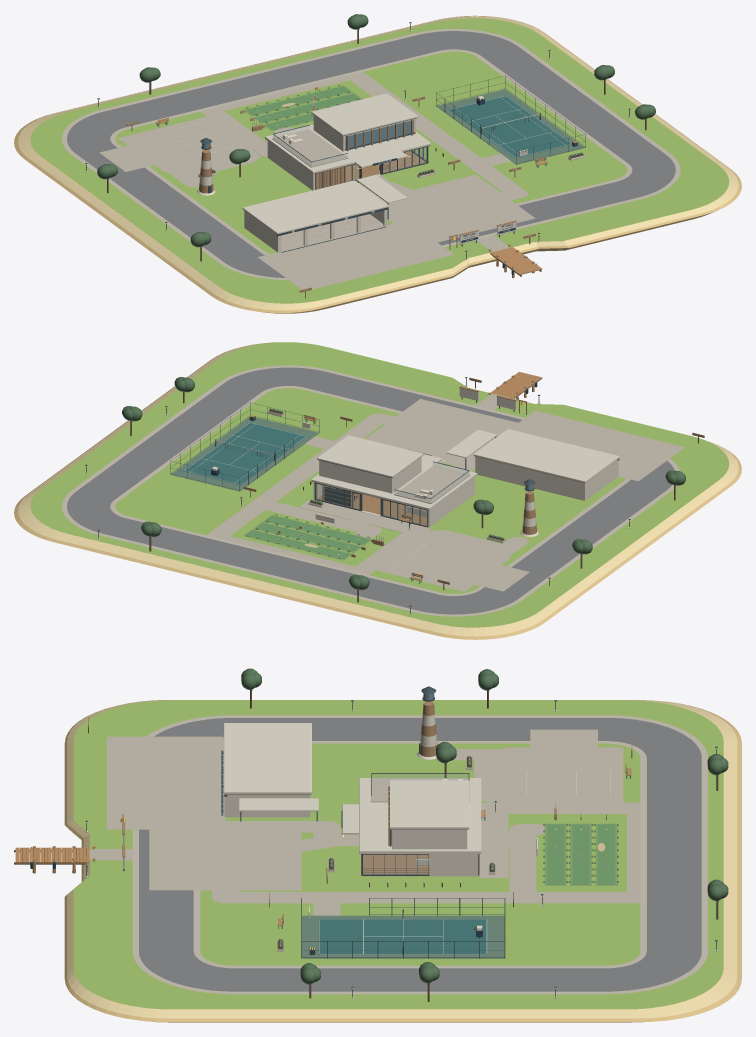
Rendered from about.glb.
3 views of the same model, one above another, from view 1: azimuth 30°, elevation 25°; view 2: azimuth 150°, elevation 25°; view 3: azimuth 270°, elevation 25° (orthographic). The views are drawn at different scales.
Visible parts, largest first — view 1: static_grass, district_harbor_estate_paving, district_harbor_estate_asphalt, static_sand, district_harbor_estate_roadShoulder, occluder_estate_garage_roof_estate_stone, static_sandEdge, district_harbor_estate_court, occluder_estate_house_upper_estate_stone, occluder_estate_house_roof_estate_stone, district_harbor_estate_wood, district_harbor_estate_courtOuter (+13 smaller); view 2: static_grass, district_harbor_estate_asphalt, district_harbor_estate_paving, static_sand, district_harbor_estate_roadShoulder, occluder_estate_house_upper_estate_stone, occluder_estate_garage_roof_estate_stone, district_harbor_estate_court, static_sandEdge, occluder_estate_garage_walls_estate_stone, district_harbor_estate_green, district_harbor_estate_courtOuter (+12 smaller); view 3: static_grass, district_harbor_estate_paving, district_harbor_estate_asphalt, static_sand, district_harbor_estate_roadShoulder, occluder_estate_garage_roof_estate_stone, district_harbor_estate_court, static_sandEdge, occluder_estate_house_upper_estate_stone, occluder_estate_house_roof_estate_stone, district_harbor_estate_green, district_harbor_estate_courtOuter (+12 smaller).
Part boxes in pixels (x1,y1,x2,y2): static_grass: [30, 18, 729, 303]; district_harbor_estate_paving: [99, 72, 535, 289]; district_harbor_estate_asphalt: [67, 31, 675, 277]; static_sand: [18, 16, 738, 310]; district_harbor_estate_roadShoulder: [62, 29, 680, 279]; occluder_estate_garage_roof_estate_stone: [242, 180, 388, 234]; static_sandEdge: [14, 15, 741, 313]; district_harbor_estate_court: [449, 95, 571, 158]; occluder_estate_house_upper_estate_stone: [311, 93, 418, 151]; occluder_estate_house_roof_estate_stone: [265, 125, 431, 173]; district_harbor_estate_wood: [126, 96, 535, 292]; district_harbor_estate_courtOuter: [436, 89, 584, 164]; static_grass: [30, 342, 729, 627]; district_harbor_estate_asphalt: [67, 367, 674, 614]; district_harbor_estate_paving: [206, 394, 684, 591]; static_sand: [18, 342, 738, 636]; district_harbor_estate_roadShoulder: [62, 365, 679, 616]; occluder_estate_house_upper_estate_stone: [317, 435, 423, 493]; occluder_estate_garage_roof_estate_stone: [473, 429, 619, 482]; district_harbor_estate_court: [183, 422, 306, 484]; static_sandEdge: [14, 349, 741, 639]; occluder_estate_garage_walls_estate_stone: [475, 456, 618, 500]; district_harbor_estate_green: [246, 515, 370, 558]; district_harbor_estate_courtOuter: [171, 416, 319, 491]; static_grass: [73, 700, 723, 1009]; district_harbor_estate_paving: [89, 729, 640, 915]; district_harbor_estate_asphalt: [139, 718, 701, 991]; static_sand: [67, 700, 737, 1018]; district_harbor_estate_roadShoulder: [132, 715, 707, 994]; occluder_estate_garage_roof_estate_stone: [223, 723, 311, 794]; district_harbor_estate_court: [318, 919, 487, 954]; static_sandEdge: [64, 701, 741, 1022]; occluder_estate_house_upper_estate_stone: [390, 780, 469, 849]; occluder_estate_house_roof_estate_stone: [342, 778, 481, 853]; district_harbor_estate_green: [547, 824, 615, 884]; district_harbor_estate_courtOuter: [302, 915, 504, 958].
Size of the model in its own units: 90 by 10.46 by 86.
